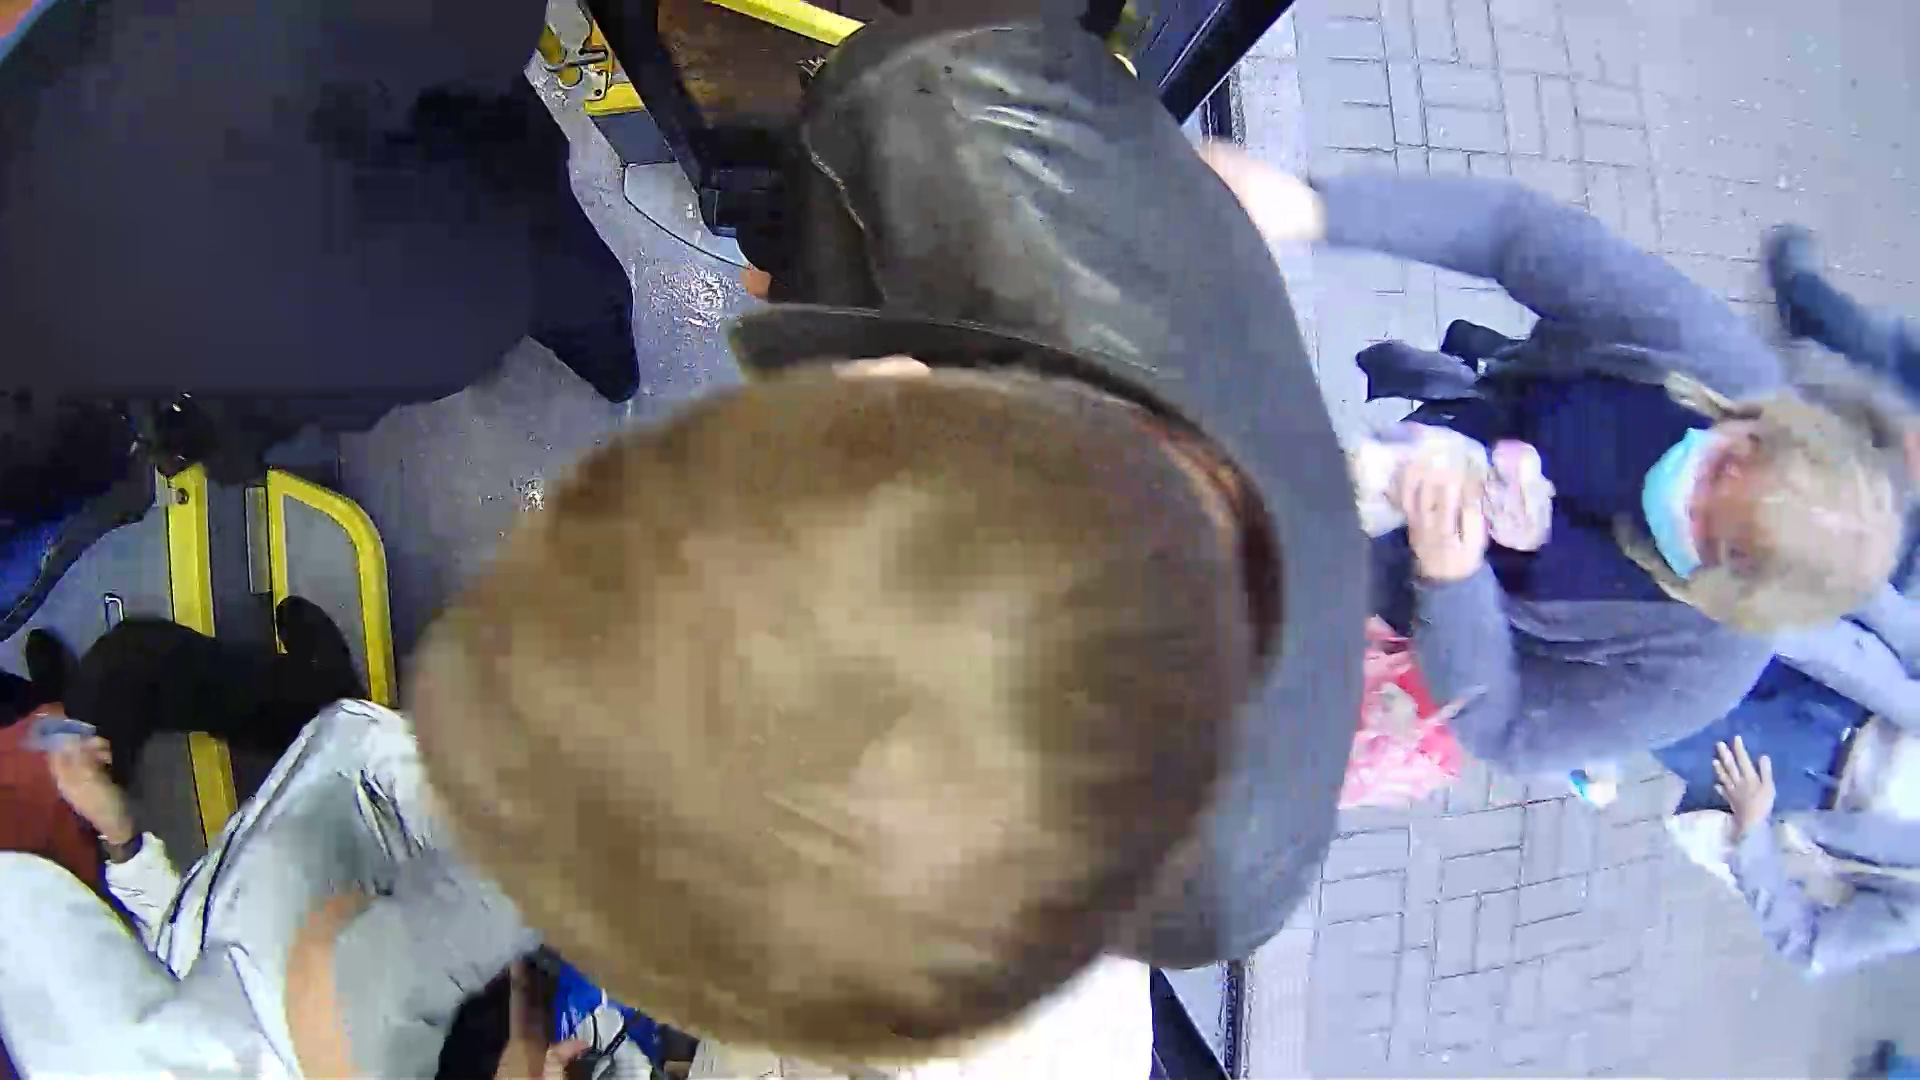person: (360, 149, 1439, 1026)
